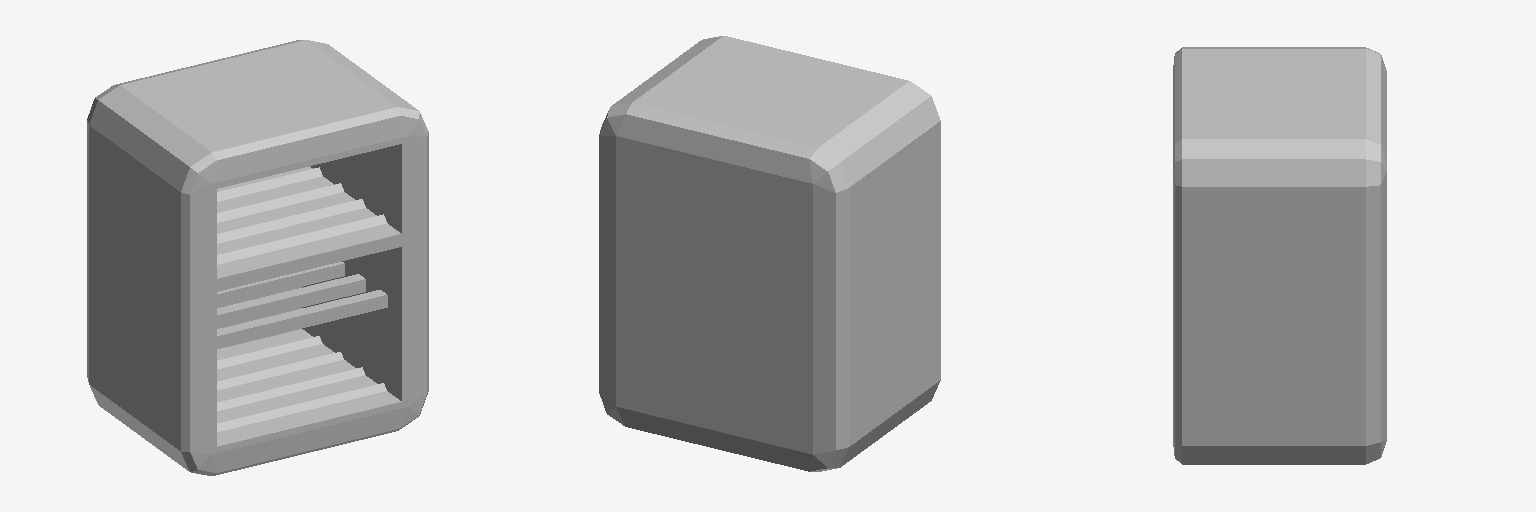
The model's file is fridge_B.obj.
3 views of the same model, side by side, from view 1: azimuth 30°, elevation 25°; view 2: azimuth 150°, elevation 25°; view 3: azimuth 270°, elevation 25° (orthographic).
Parts seen in each view (by area): view 1: fridge_B_Cube.006; view 2: fridge_B_Cube.006; view 3: fridge_B_Cube.006.
Part boxes in pixels (left/top/right/bottom): fridge_B_Cube.006: left=87, top=40, right=428, bottom=475; fridge_B_Cube.006: left=599, top=36, right=940, bottom=471; fridge_B_Cube.006: left=1173, top=47, right=1386, bottom=464.
Bounding box in the file's own units: 2 × 2.5 × 1.5.